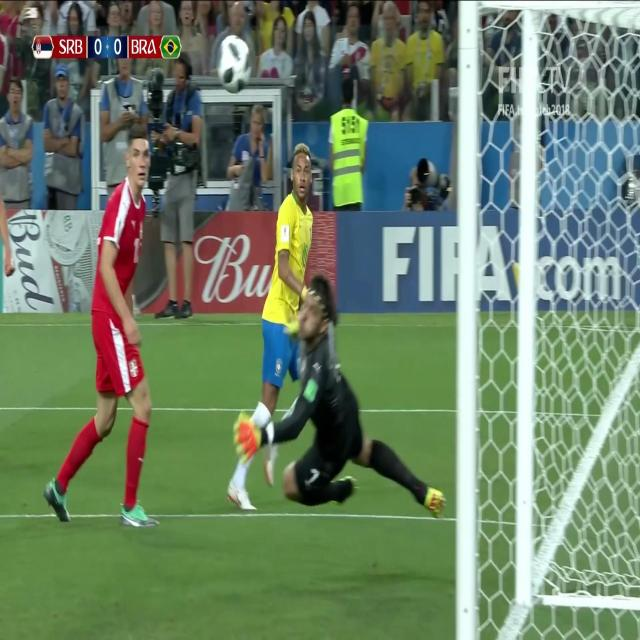ball: (214, 30, 255, 99)
player: (52, 108, 178, 541), (243, 259, 429, 523), (235, 133, 326, 499)
